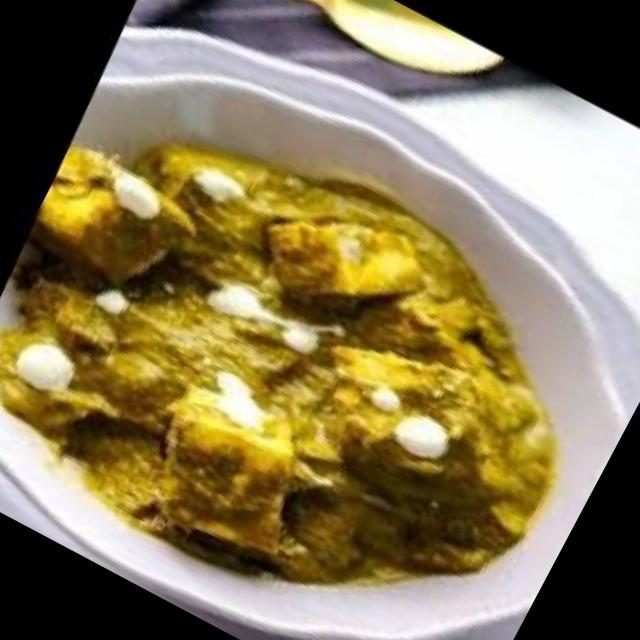palak_paneer: (0, 47, 640, 640)
